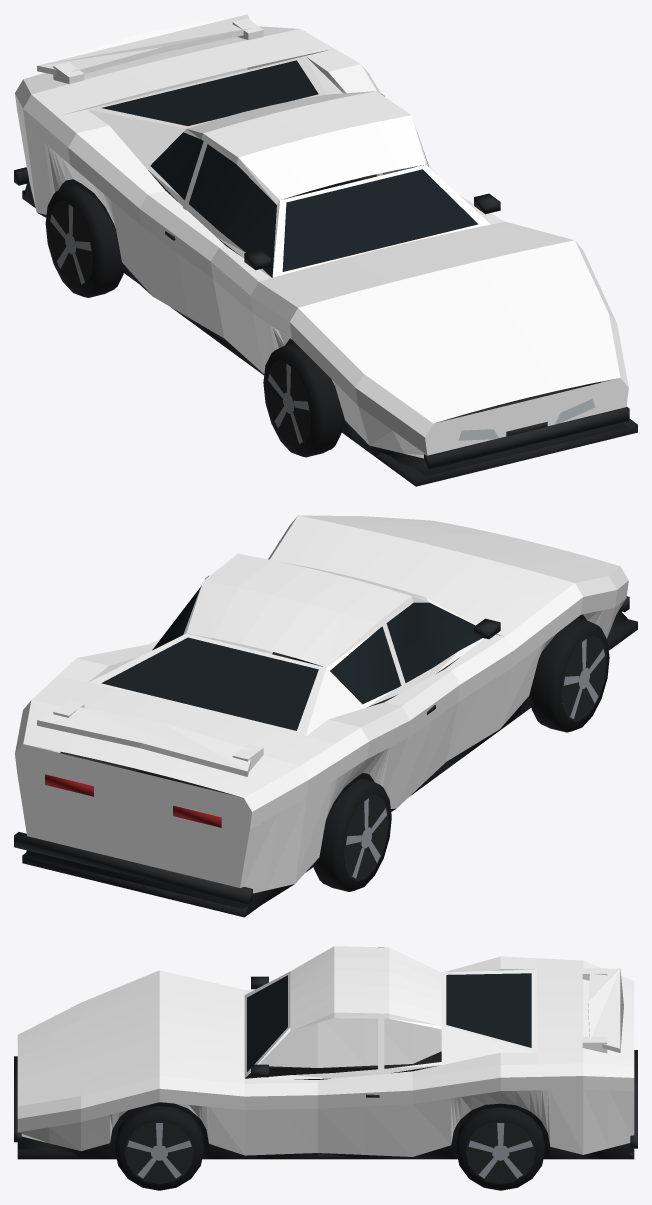
The model's file is kanaya_aureo.glb.
The picture shows the model from 3 angles, top to bottom: view 1: azimuth 30°, elevation 25°; view 2: azimuth 150°, elevation 25°; view 3: azimuth 270°, elevation 25°; orthographic projection. The views are drawn at different scales.
Visible parts, largest first — view 1: Body_Paint, Body_Details, Mount_FrontLeft_Wheel_Details, Mount_RearLeft_Wheel_Details; view 2: Body_Paint, Body_Details, Mount_FrontLeft_Wheel_Details, Mount_RearLeft_Wheel_Details; view 3: Body_Paint, Body_Details, Mount_FrontRight_Wheel_Details, Mount_RearRight_Wheel_Details.
Part boxes in pixels (x1,y1,x2,y2): Body_Paint: (15, 14, 628, 458); Body_Details: (14, 60, 637, 486); Mount_FrontLeft_Wheel_Details: (263, 343, 343, 457); Mount_RearLeft_Wheel_Details: (45, 184, 124, 297); Body_Paint: (15, 515, 628, 893); Body_Details: (14, 587, 637, 917); Mount_FrontLeft_Wheel_Details: (529, 618, 609, 732); Mount_RearLeft_Wheel_Details: (313, 778, 391, 891); Body_Paint: (17, 946, 634, 1156); Body_Details: (14, 973, 637, 1159); Mount_FrontRight_Wheel_Details: (114, 1106, 204, 1190); Mount_RearRight_Wheel_Details: (456, 1107, 545, 1190).
Bounding box in the file's own units: 1.98 × 1.28 × 4.53.
2 materials, 1 textured.
